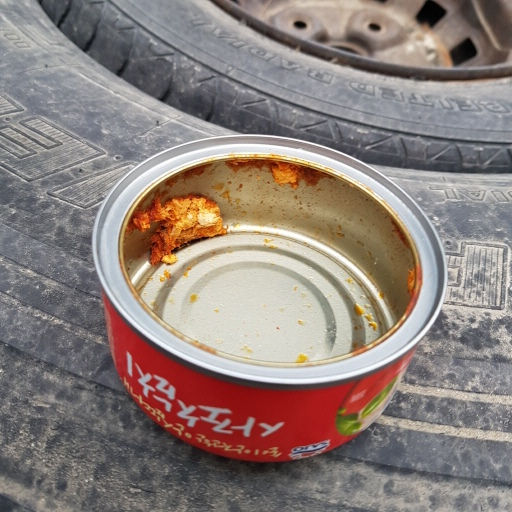Metal_1: (91, 132, 446, 466)
